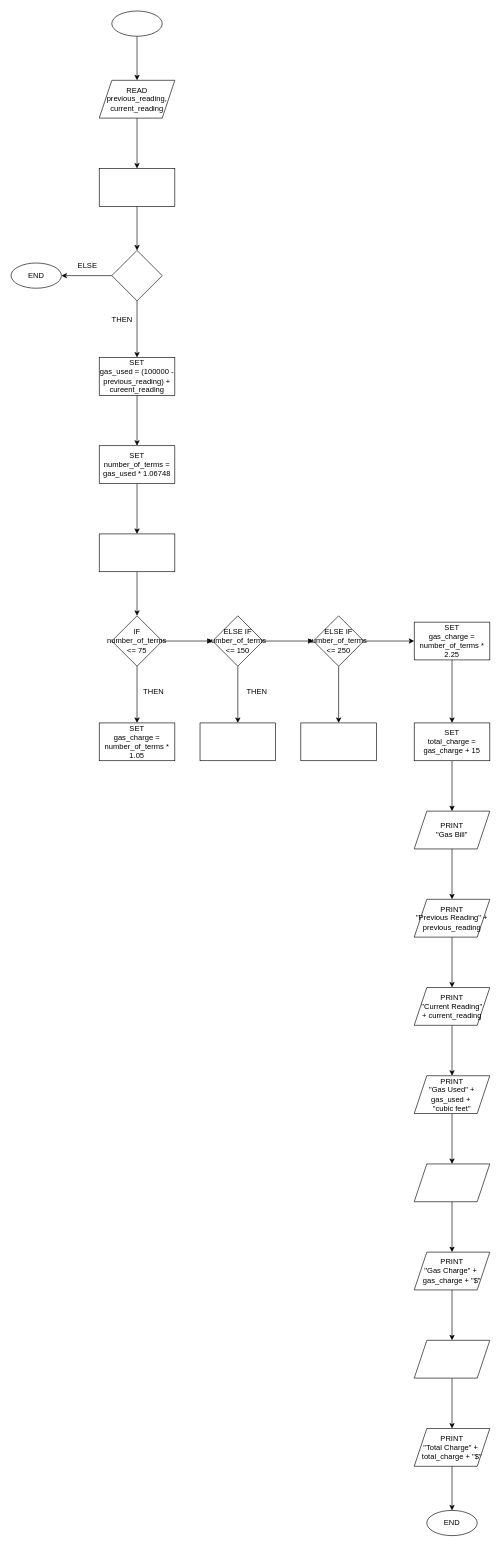
Image size: 501x1547. Some labels were removed from this diagram. Here are the shapes that lost their labels. From the top down, the centre of each, then its label:
(136,23): START
(137,187): SET gas_used = current_reading - previous_reading
(136,275): IF gas_used < 0
(137,552): SET gas_charge = 0
(237,741): SET gas_charge = number_of_terms * 1.25
(338,741): SET gas_charge = number_of_terms * 1.50
(452,1182): PRINT "Number of Terms Consumed" + number_of_terms
(452,1359): PRINT "Meter Rent" + 15 + "$"
